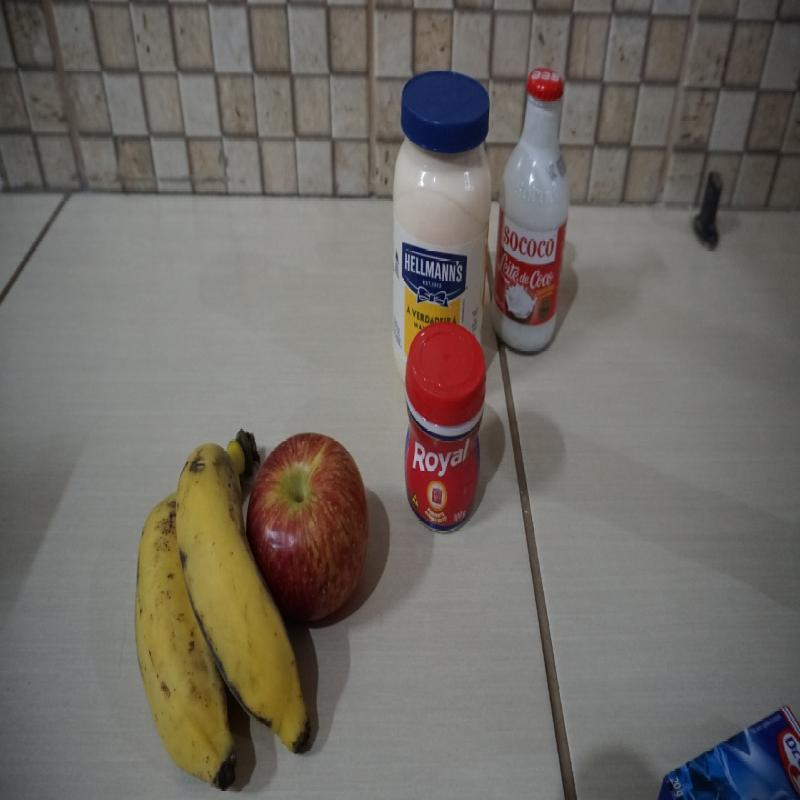Apple: (254, 430, 373, 621)
Banana: (135, 428, 250, 799)
Coconut Milk: (499, 68, 572, 354)
Gelatine: (654, 706, 798, 800)
Mayonnaise: (392, 60, 490, 312)
Yeast: (400, 316, 488, 535)
